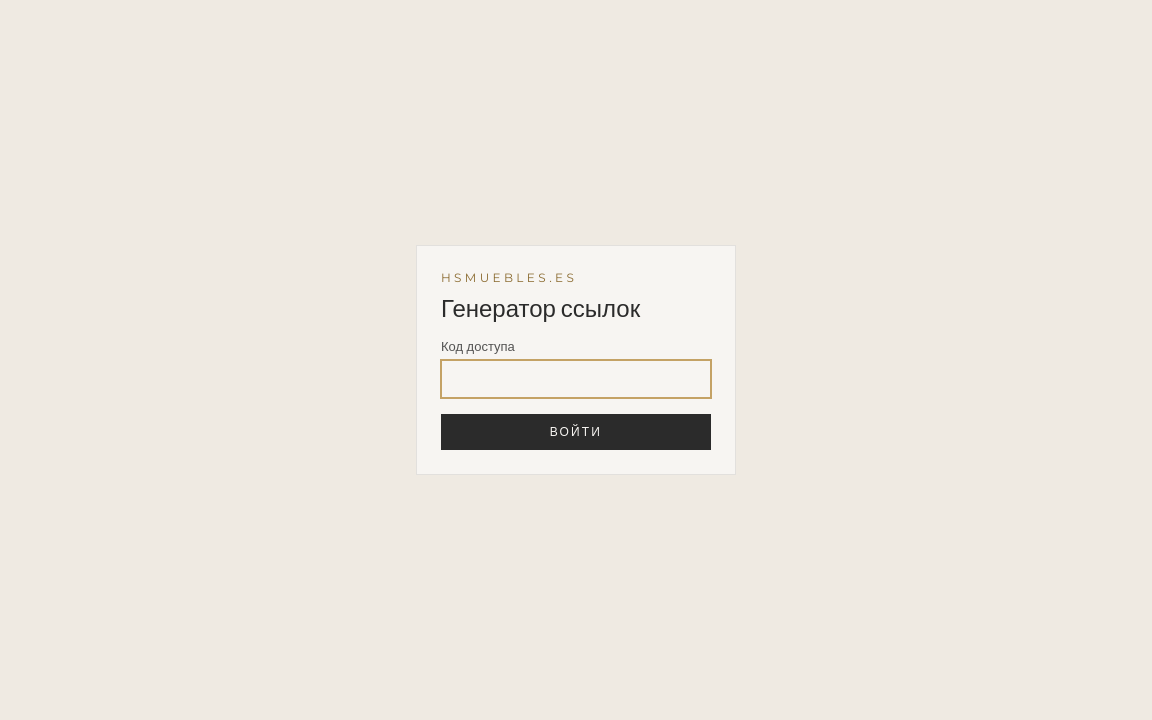
it: UtmBuilder — сборка ссылки › открывается с готовой ссылкой, а не с пустой формой
The width and height of the screenshot is (1152, 720).
In the password field labelled "Код доступа": (576, 379) [441,360,711,398], type "777111"
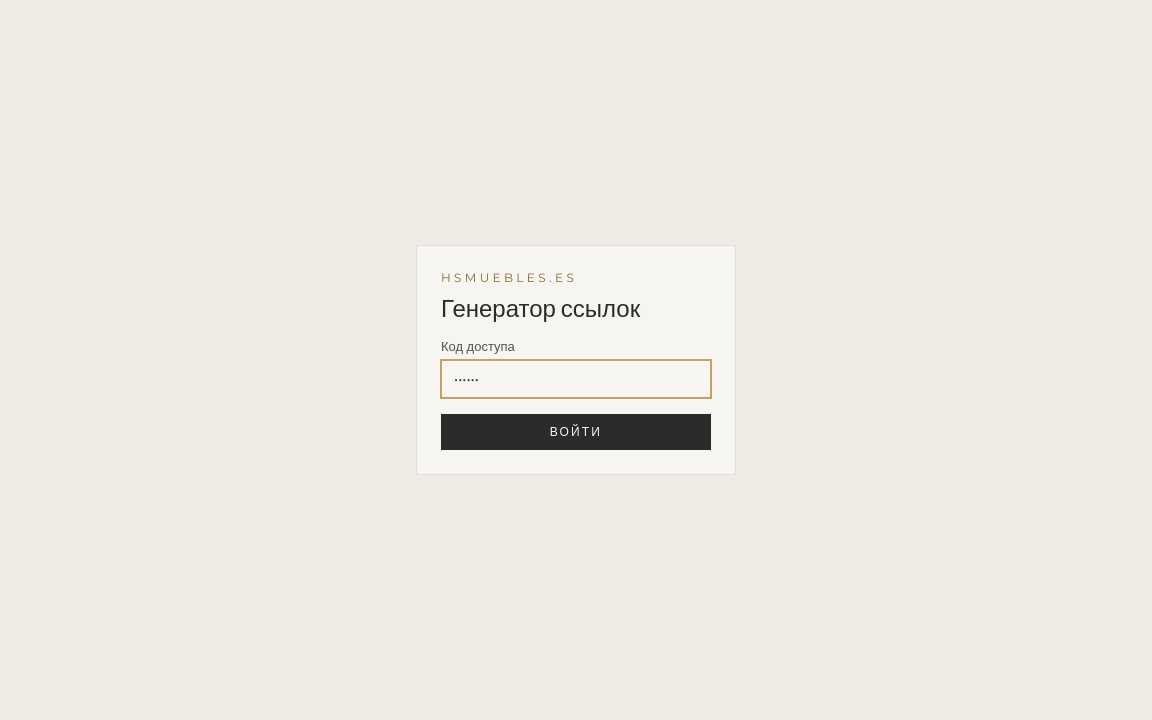
Click the button "Войти": click(576, 432) [441,414,711,450]
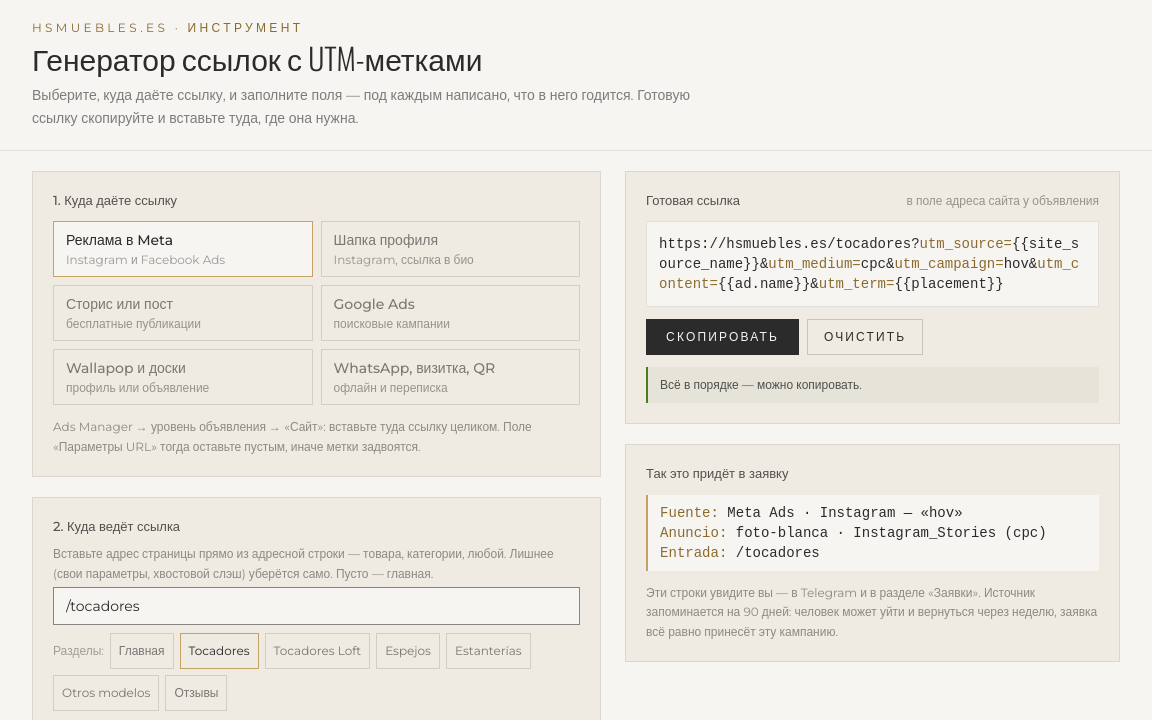
Expected: the text "hsmuebles.es/tocadores" is shown, [659,236,920,252]
